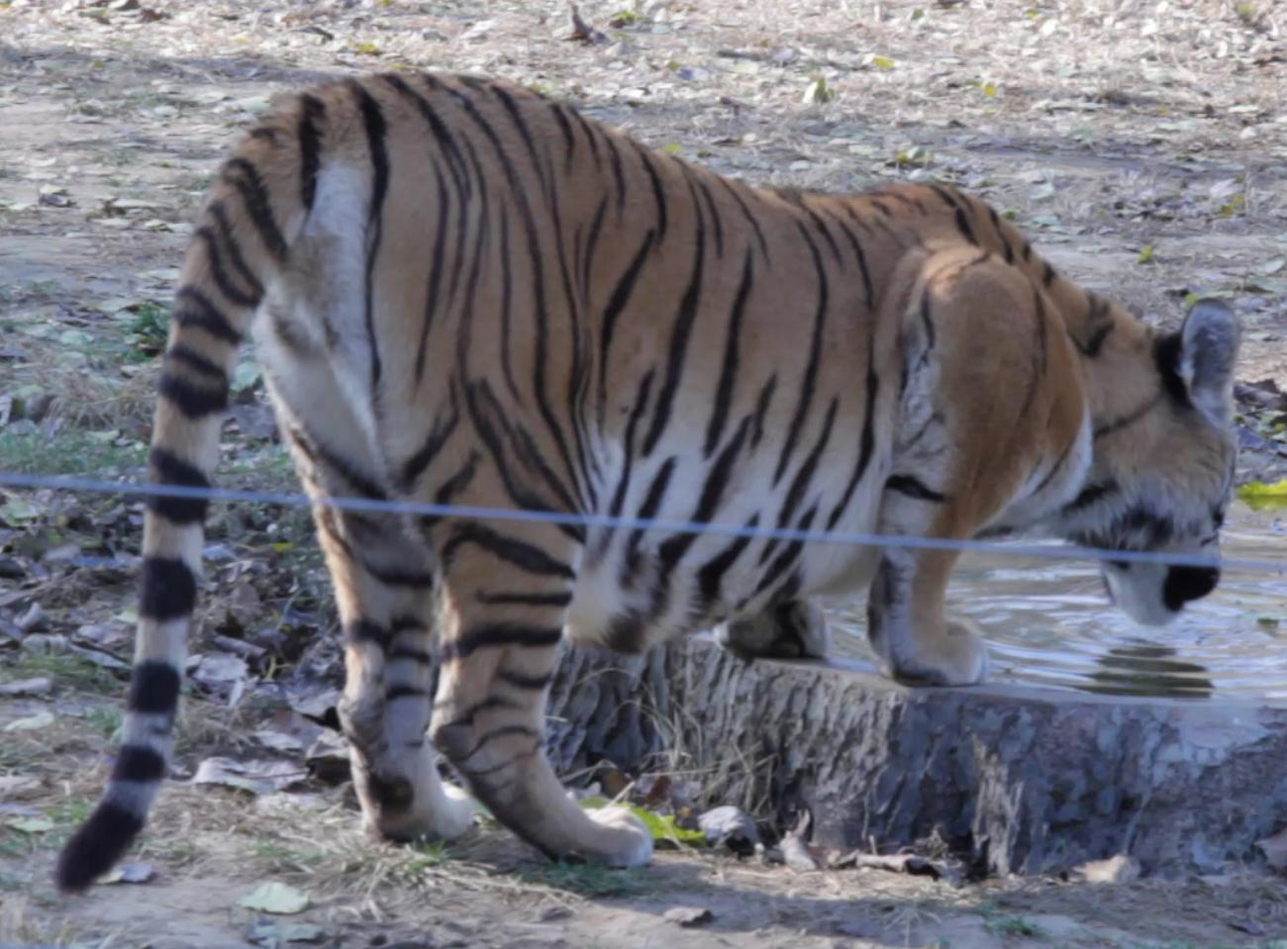tiger: (150, 71, 1235, 864)
